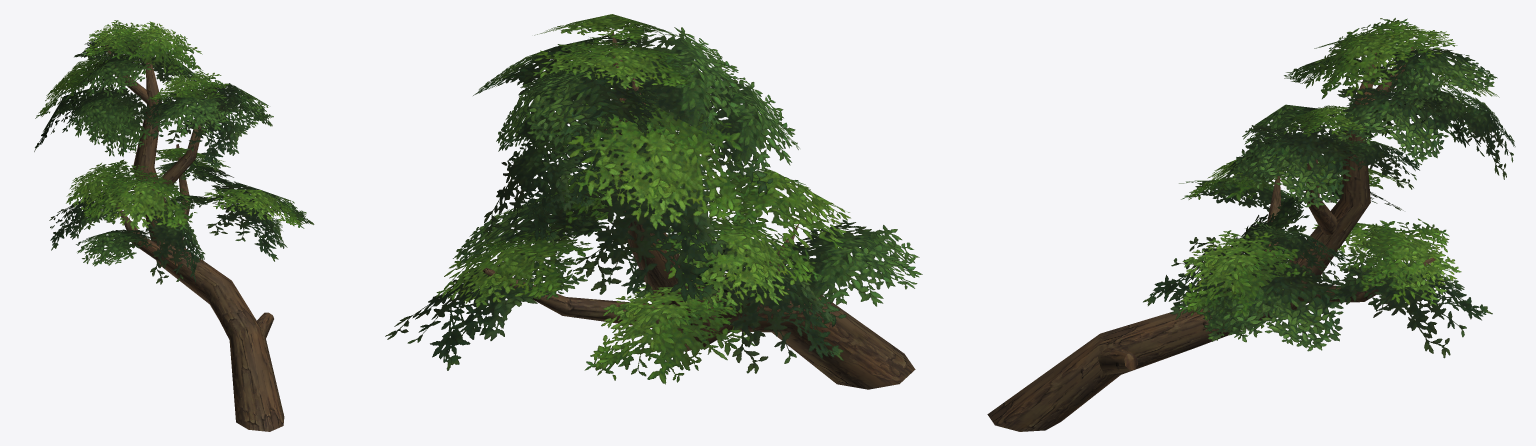
Rendered from 2_Plant_Shu_02.FBX.
The picture shows the model from 3 angles, left to right: view 1: azimuth 30°, elevation 25°; view 2: azimuth 150°, elevation 25°; view 3: azimuth 270°, elevation 25°; orthographic projection. The views are drawn at different scales.
Visible parts, largest first — view 1: 2_Plant_Shu_02; view 2: 2_Plant_Shu_02; view 3: 2_Plant_Shu_02.
Part boxes in pixels (x1,y1,x2,y2): 2_Plant_Shu_02: (34,20,314,431); 2_Plant_Shu_02: (385,14,922,389); 2_Plant_Shu_02: (987,18,1515,431).
Bounding box in the file's own units: 1016 × 1158 × 1416.
